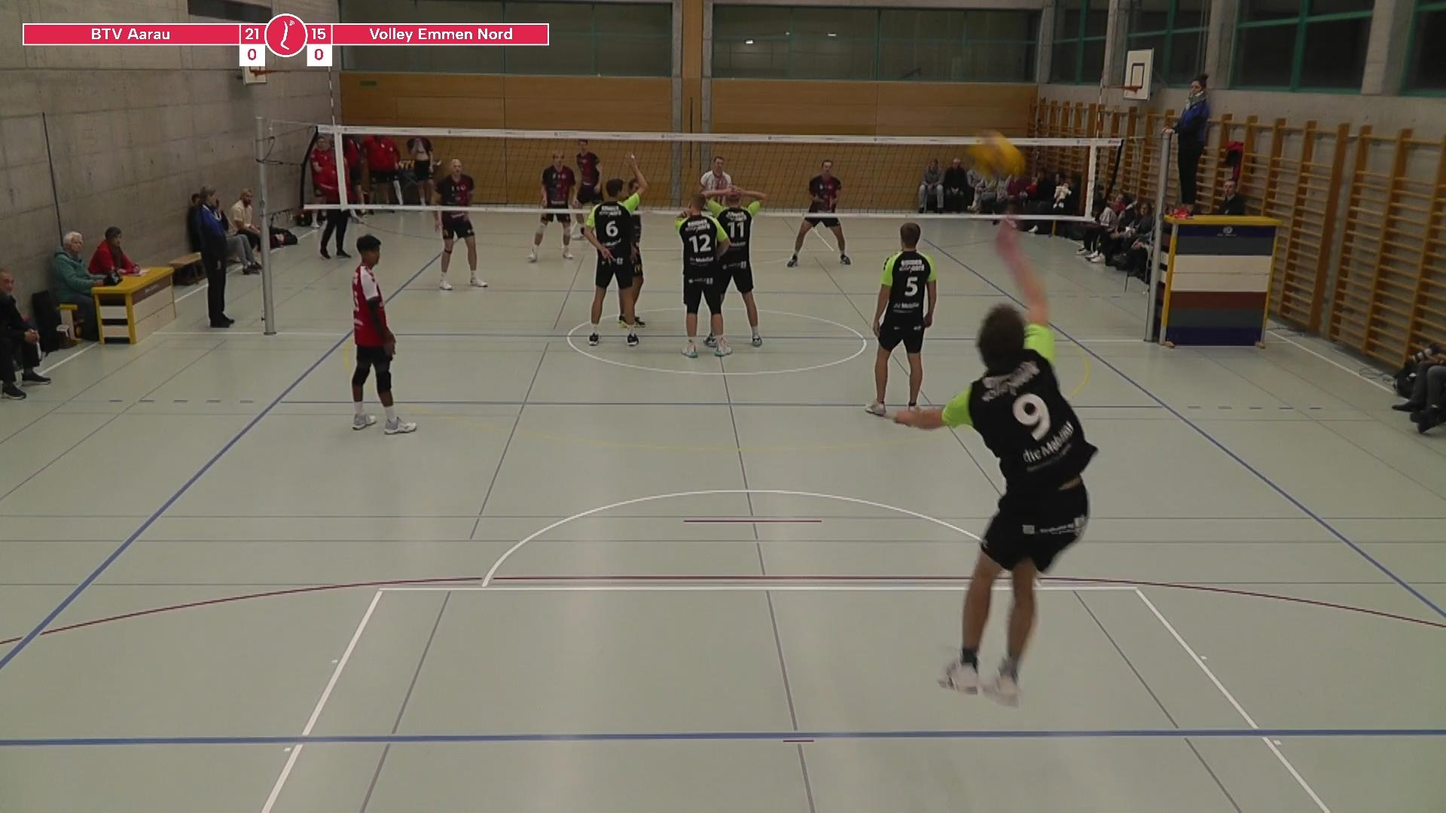Player: (867, 222, 937, 416), (352, 235, 416, 434), (583, 154, 646, 346), (703, 187, 766, 346), (676, 193, 731, 358), (432, 158, 487, 290), (786, 160, 850, 266), (528, 151, 576, 260), (575, 139, 603, 209), (632, 211, 645, 327)
Serve: (896, 217, 1101, 713)
ball: (970, 130, 1029, 189)
